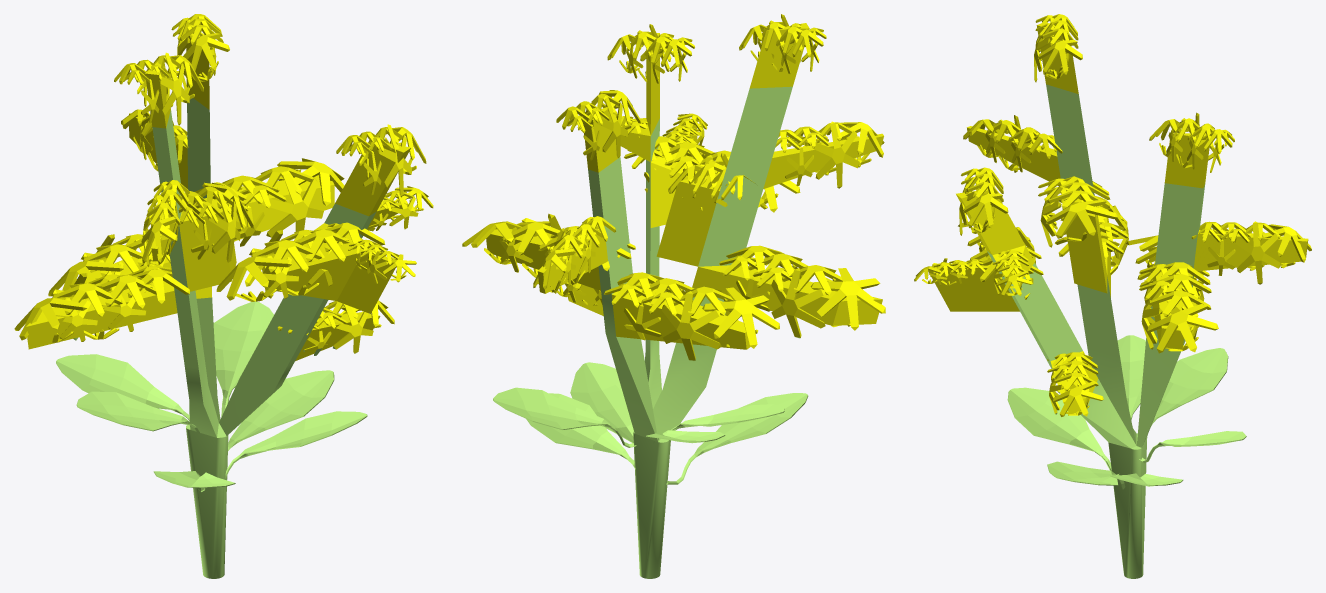
The model's file is Goldenrod_Flower.fbx.
3 renders of one model, left to right at view 1: azimuth 30°, elevation 25°; view 2: azimuth 150°, elevation 25°; view 3: azimuth 270°, elevation 25°, orthographic. The views are drawn at different scales.
Visible parts, largest first — view 1: LeafImport6; view 2: LeafImport6; view 3: LeafImport6.
Boxes of the visible parts, x1,y1,x2,y2 form: LeafImport6: (14,14,433,578); LeafImport6: (462,14,885,578); LeafImport6: (914,14,1311,578).
Size of the model in its own units: 3.53 by 5.1 by 3.59.
